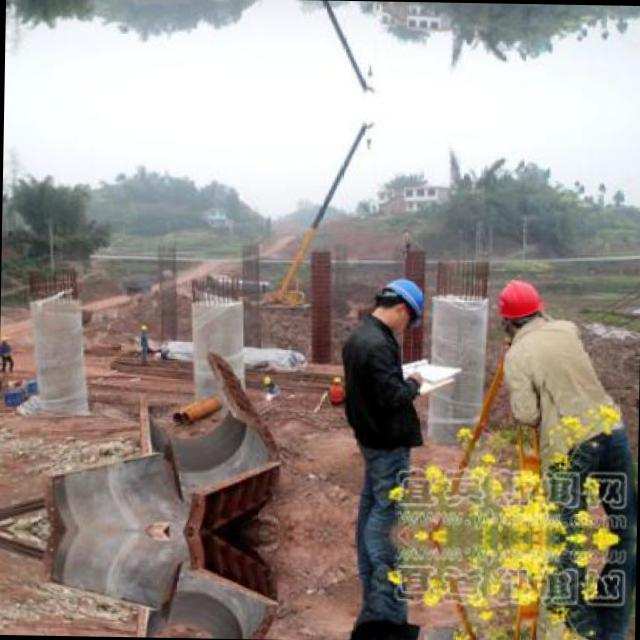helmet: (370, 275, 428, 334), (492, 276, 546, 334)
